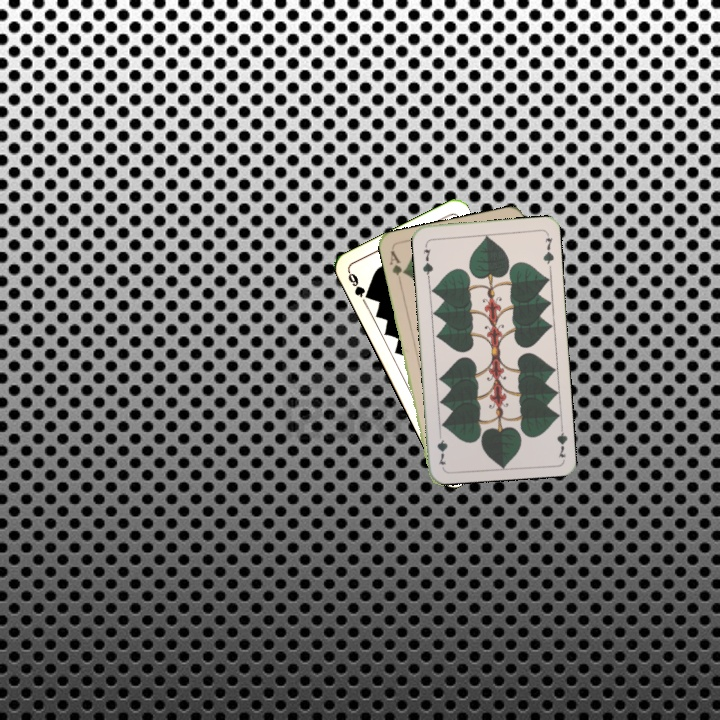G7: (553, 419, 570, 460), (418, 245, 436, 280)
G9: (344, 267, 374, 302)
GA: (385, 247, 408, 286)
